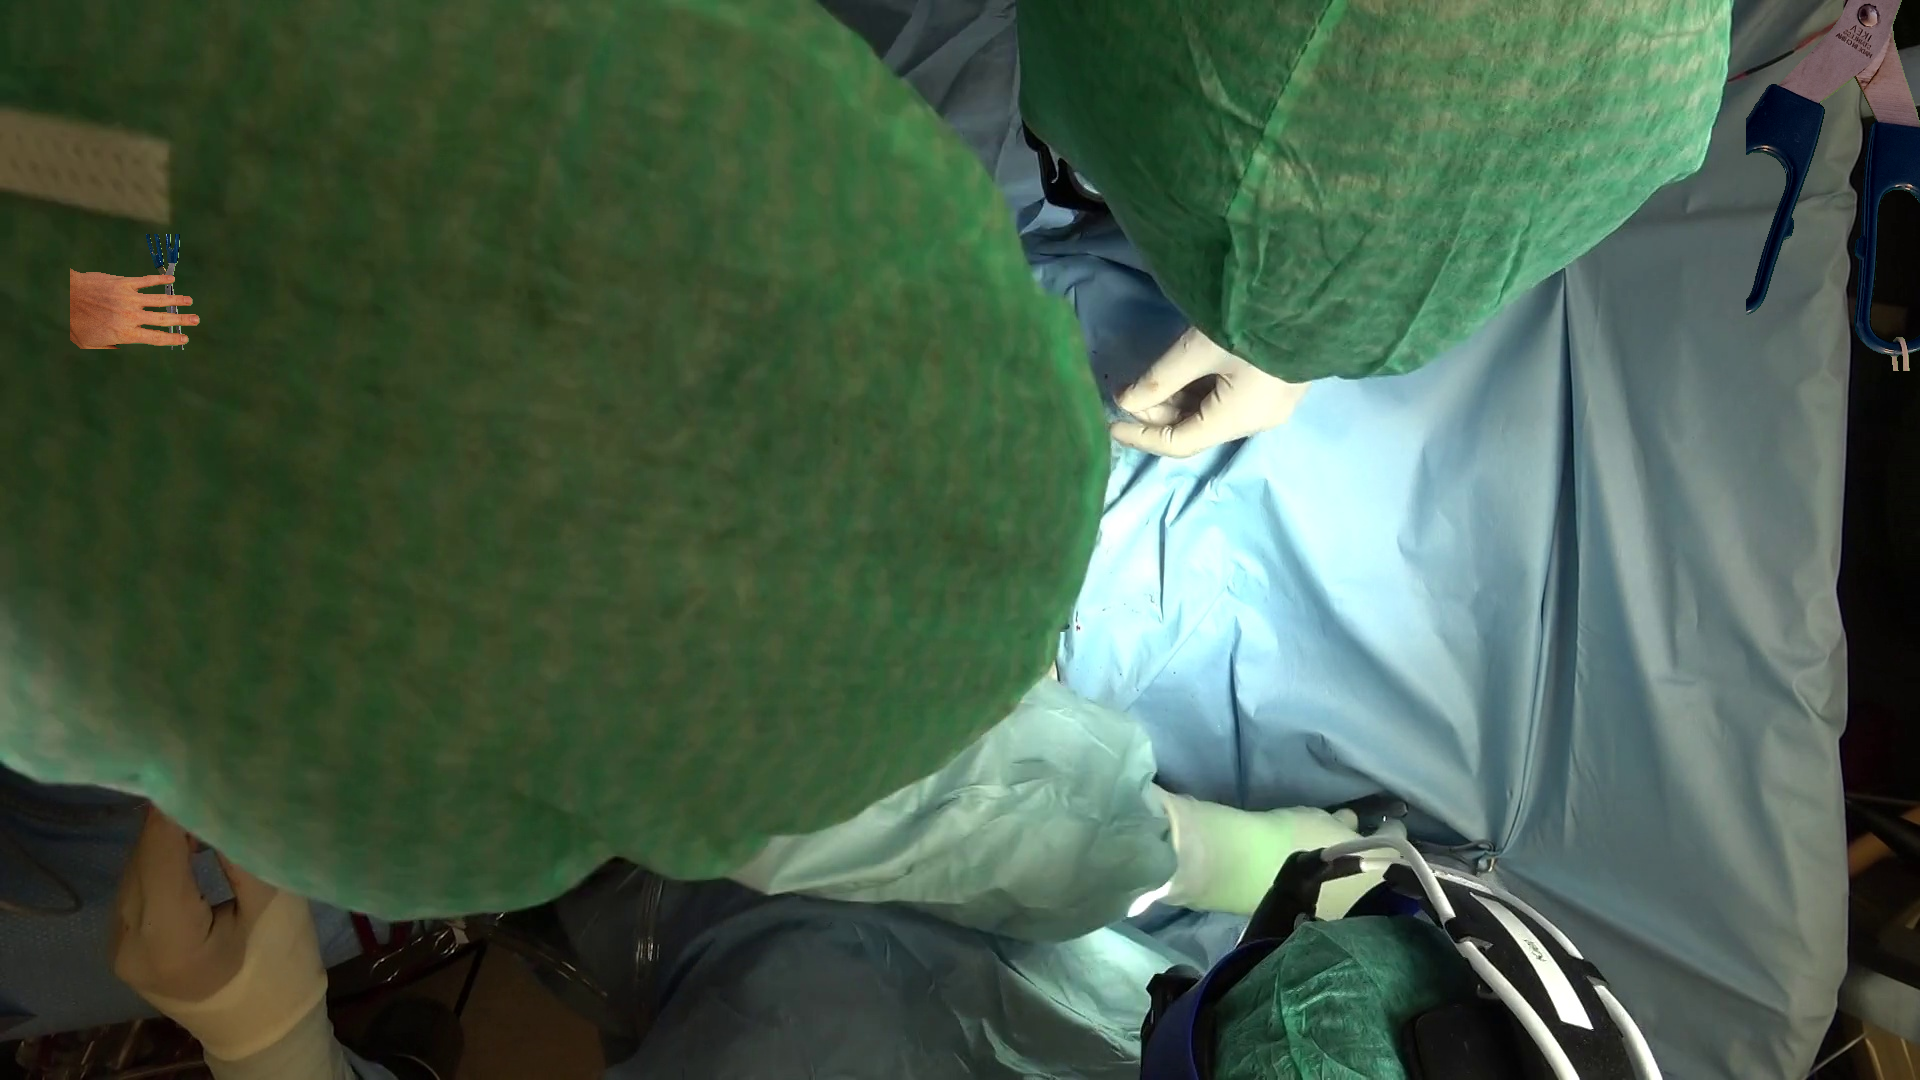scissors: (1746, 0, 1919, 371), (146, 233, 183, 349)
